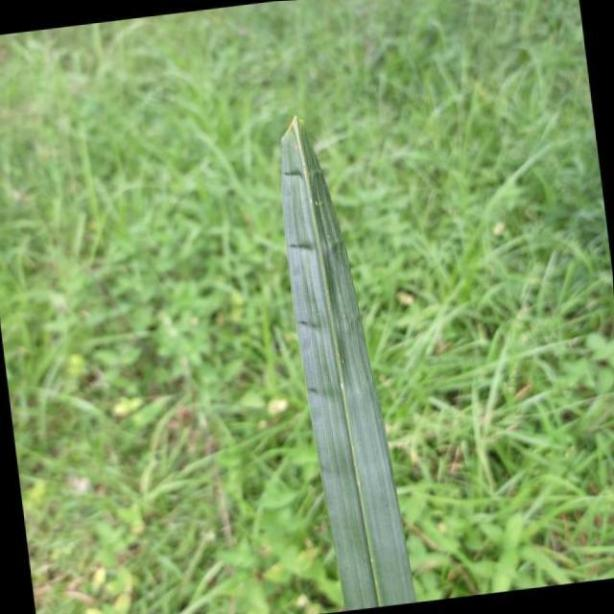Boron: (256, 112, 419, 603)
